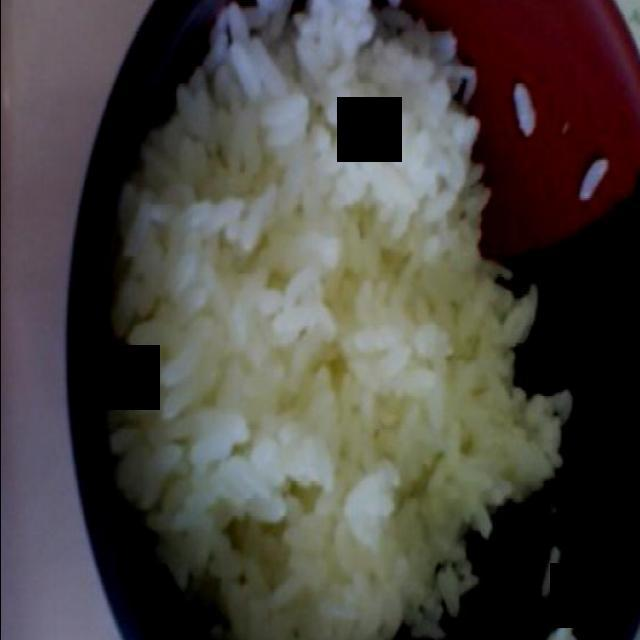rice: (109, 0, 577, 640)
